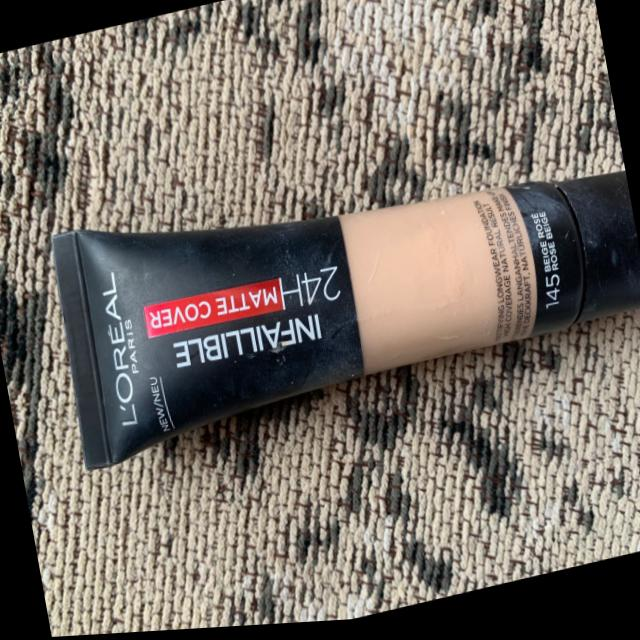foundation: (19, 65, 640, 490)
